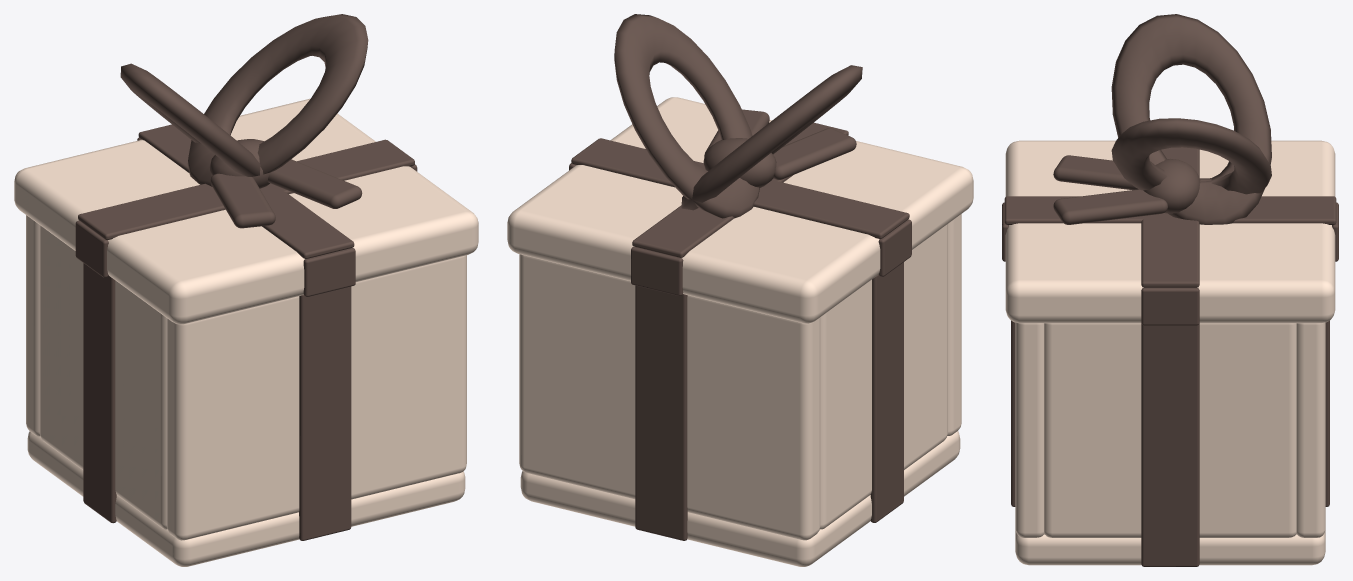
The model's file is gift-rose-2.glb.
3 renders of one model, left to right at view 1: azimuth 30°, elevation 25°; view 2: azimuth 150°, elevation 25°; view 3: azimuth 270°, elevation 25°, orthographic.
Visible parts, largest first — view 1: Gift_Body, Gift_Lid, Gift_Bow_Loop_R, Gift_Bow, Gift_Bow_Loop_L; view 2: Gift_Body, Gift_Lid, Gift_Bow_Loop_R, Gift_Bow_Loop_L, Gift_Bow; view 3: Gift_Body, Gift_Lid, Gift_Bow_Loop_L, Gift_Bow_Loop_R, Gift_Bow.
Part boxes in pixels (bbox=[...]): Gift_Body: bbox=[26, 215, 466, 566]; Gift_Lid: bbox=[14, 98, 478, 324]; Gift_Bow_Loop_R: bbox=[187, 14, 368, 186]; Gift_Bow: bbox=[209, 139, 362, 228]; Gift_Bow_Loop_L: bbox=[120, 63, 260, 176]; Gift_Body: bbox=[519, 214, 961, 566]; Gift_Lid: bbox=[507, 97, 973, 323]; Gift_Bow_Loop_R: bbox=[614, 14, 759, 218]; Gift_Bow_Loop_L: bbox=[681, 65, 862, 210]; Gift_Bow: bbox=[703, 109, 856, 188]; Gift_Body: bbox=[1011, 320, 1329, 566]; Gift_Lid: bbox=[1002, 140, 1338, 325]; Gift_Bow_Loop_L: bbox=[1111, 14, 1271, 224]; Gift_Bow_Loop_R: bbox=[1111, 118, 1271, 194]; Gift_Bow: bbox=[1053, 155, 1200, 224].
Size of the model in its own units: 0.928 by 1.23 by 0.868.
